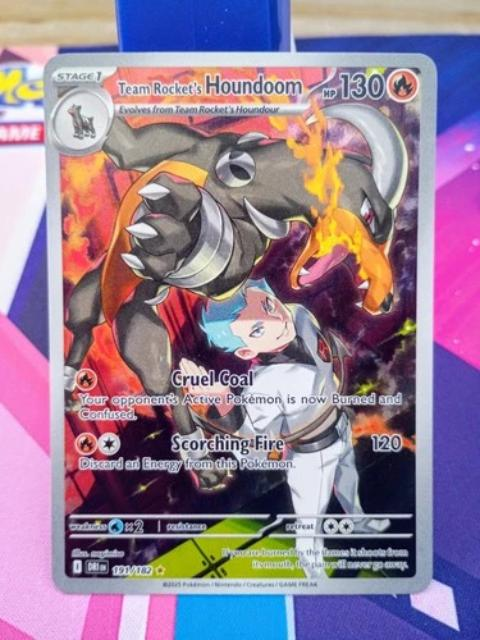Card: (38, 46, 444, 600)
Name: (110, 69, 309, 106)
